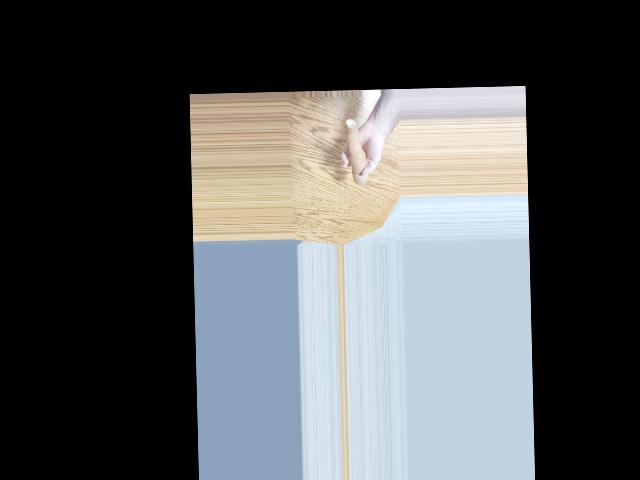sweet_potato: (347, 120, 368, 184)
